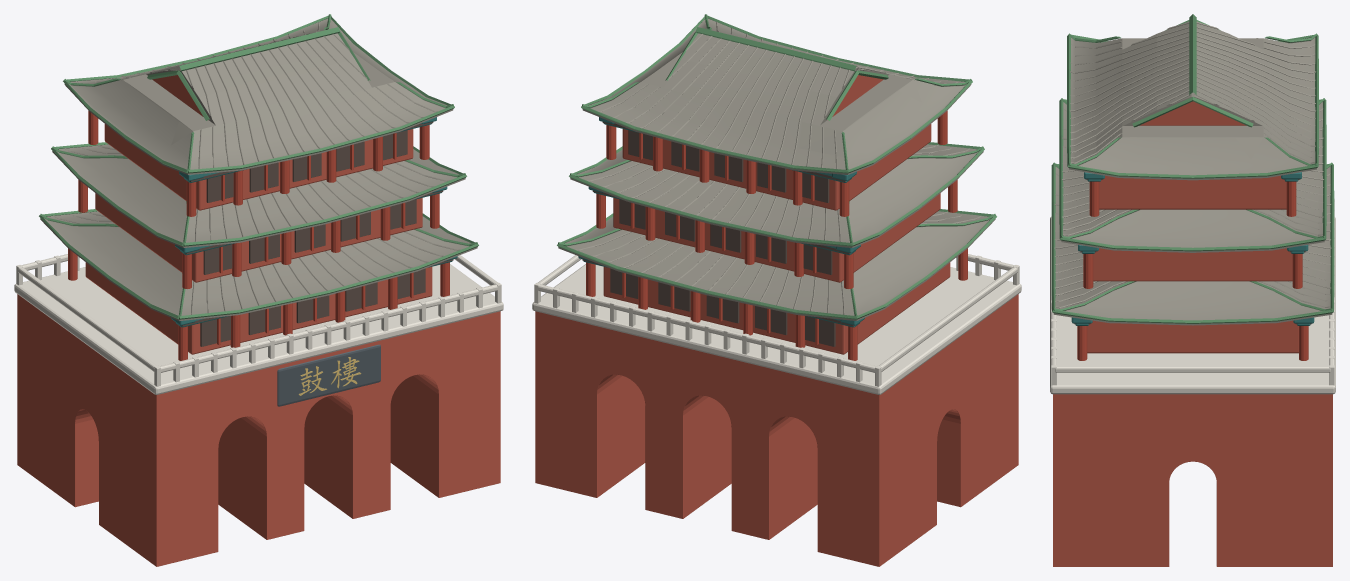
3 renders of one model, left to right at view 1: azimuth 30°, elevation 25°; view 2: azimuth 150°, elevation 25°; view 3: azimuth 270°, elevation 25°, orthographic.
Parts seen in each view (by area): view 1: gate-platform, roof-tier-3, roof-tier-1, platform-cornice, roof-tier-2, level-1-core, level-2-core, roof-tier-3-tile-rhythm, level-3-core, name-plaque, roof-tier-3-eave, platform-balustrade-rail--1 (+20 smaller); view 2: gate-platform, roof-tier-3, roof-tier-1, platform-cornice, roof-tier-2, level-1-core, level-2-core, roof-tier-3-tile-rhythm, level-3-core, roof-tier-3-eave, platform-balustrade-rail-1, roof-tier-1-eave (+18 smaller); view 3: gate-platform, roof-tier-3, roof-tier-1, platform-cornice, roof-tier-2, roof-tier-3-tile-rhythm, level-1-core, level-2-core, level-3-core, roof-tier-1-eave, roof-tier-2-eave, roof-tier-3-eave (+14 smaller).
Boxes of the visible parts, box(x1,y1,x2,y2) form: gate-platform: box(17, 294, 500, 566); roof-tier-3: box(64, 18, 453, 174); roof-tier-1: box(40, 211, 477, 321); platform-cornice: box(14, 264, 503, 394); roof-tier-2: box(52, 144, 465, 247); level-1-core: box(85, 262, 432, 354); level-2-core: box(95, 193, 422, 282); roof-tier-3-tile-rhythm: box(76, 22, 437, 168); level-3-core: box(104, 124, 413, 210); name-plaque: box(277, 344, 380, 406); roof-tier-3-eave: box(63, 15, 454, 173); platform-balustrade-rail--1: box(159, 284, 498, 372); gate-platform: box(535, 294, 1018, 566); roof-tier-3: box(582, 18, 971, 174); roof-tier-1: box(558, 211, 995, 321); platform-cornice: box(532, 264, 1021, 394); roof-tier-2: box(570, 144, 983, 247); level-1-core: box(603, 262, 950, 354); level-2-core: box(613, 193, 940, 282); roof-tier-3-tile-rhythm: box(598, 21, 958, 168); level-3-core: box(622, 124, 931, 210); roof-tier-3-eave: box(581, 15, 972, 173); platform-balustrade-rail-1: box(537, 284, 876, 372); roof-tier-1-eave: box(557, 209, 996, 319); gate-platform: box(1053, 394, 1332, 566); roof-tier-3: box(1069, 21, 1316, 180); roof-tier-1: box(1053, 166, 1332, 325); platform-cornice: box(1050, 216, 1335, 394); roof-tier-2: box(1061, 102, 1324, 252); roof-tier-3-tile-rhythm: box(1070, 22, 1315, 163); level-1-core: box(1087, 320, 1298, 353); level-2-core: box(1093, 248, 1292, 281); level-3-core: box(1099, 175, 1286, 209); roof-tier-1-eave: box(1051, 163, 1334, 323); roof-tier-2-eave: box(1059, 99, 1326, 251); roof-tier-3-eave: box(1067, 34, 1318, 178).
Bounding box in the file's own units: 2.89 × 3.38 × 2.04.
